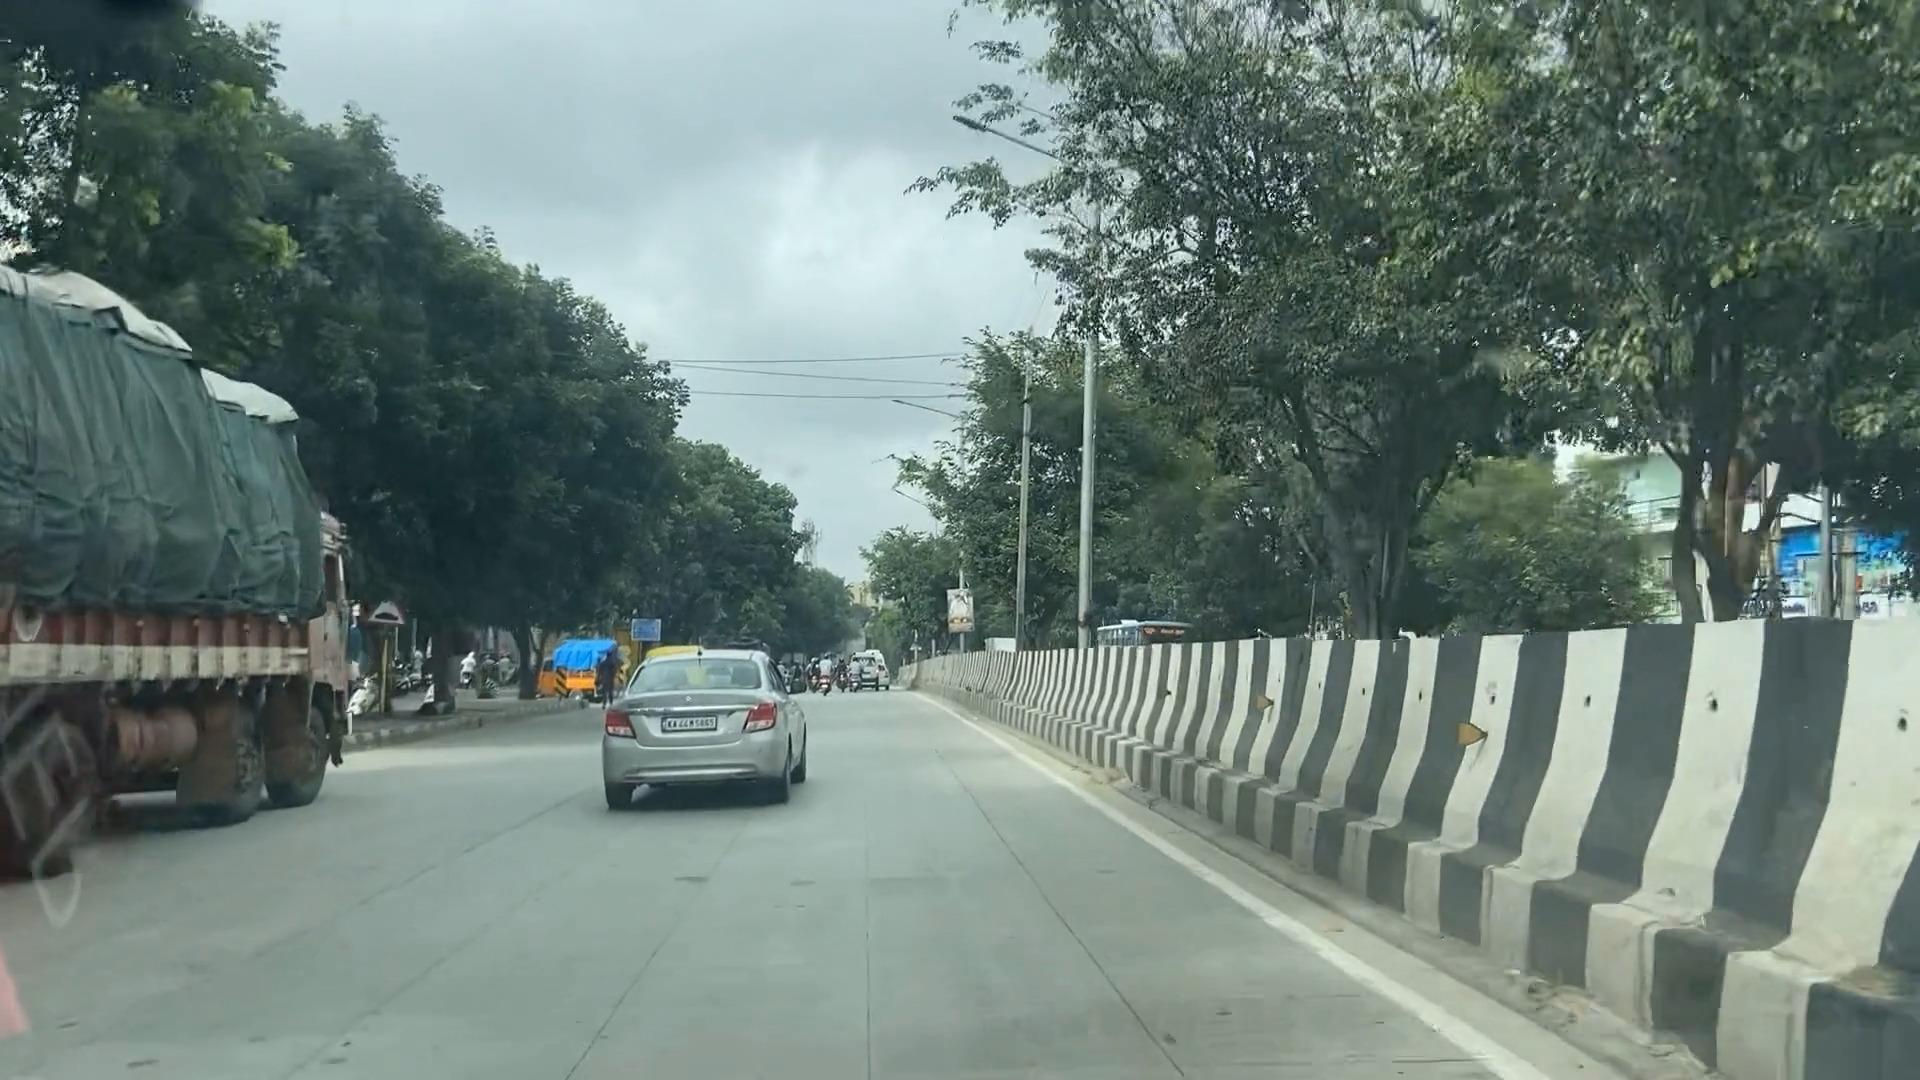HMV: (0, 243, 360, 877)
LMV: (608, 628, 815, 811)
